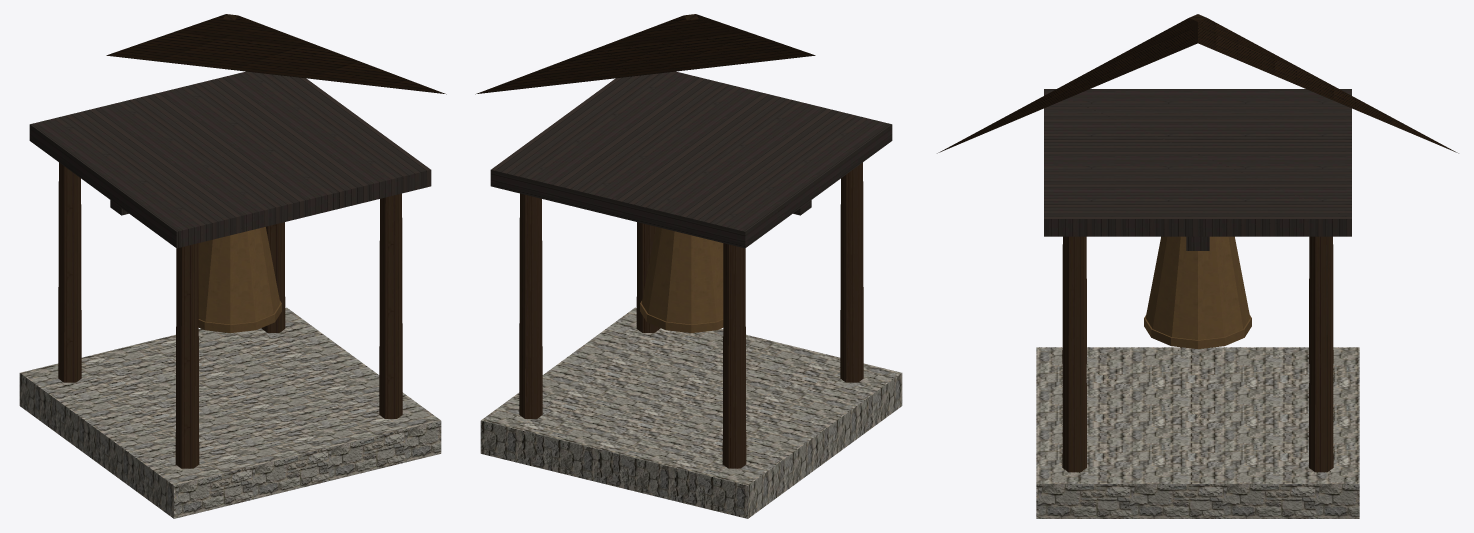
Rendered from bell_pavilion_01.glb.
3 renders of one model, left to right at view 1: azimuth 30°, elevation 25°; view 2: azimuth 150°, elevation 25°; view 3: azimuth 270°, elevation 25°, orthographic. The views are drawn at different scales.
Parts seen in each view (by area): view 1: bell_pavilion_01; view 2: bell_pavilion_01; view 3: bell_pavilion_01.
Boxes of the visible parts, x1,y1,x2,y2 form: bell_pavilion_01: [19, 14, 446, 518]; bell_pavilion_01: [475, 14, 902, 518]; bell_pavilion_01: [937, 14, 1458, 518].
Size of the model in its own units: 6.8 by 6.2 by 6.8.
6 materials, 6 textured.
